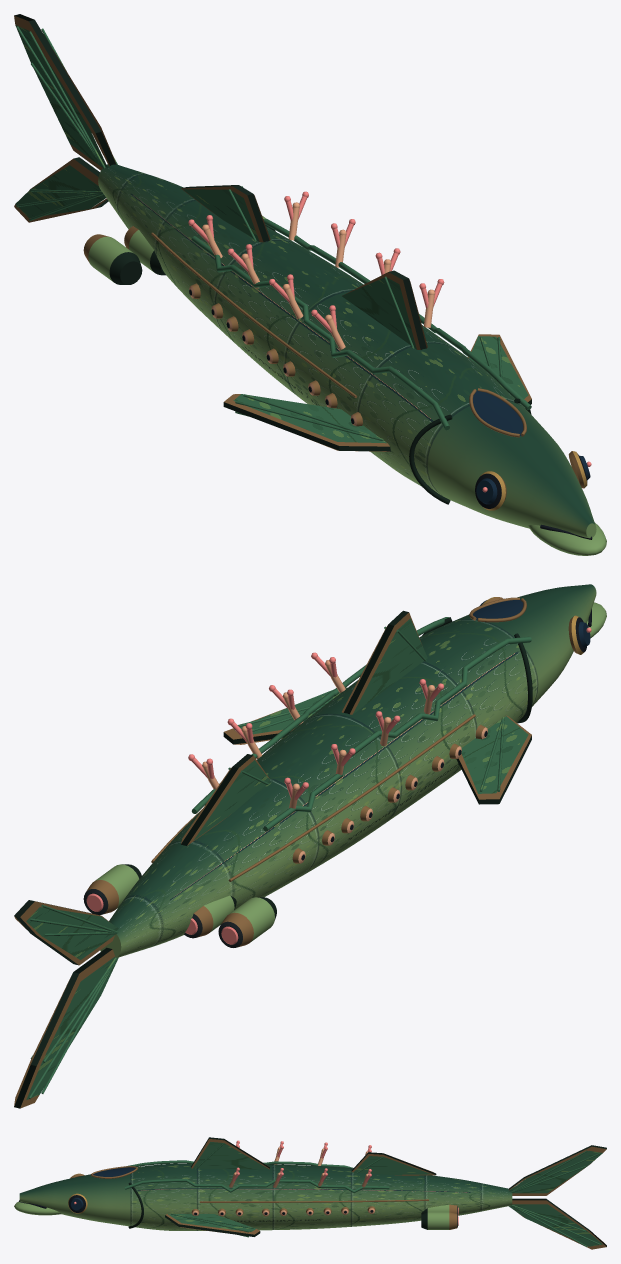
3 renders of one model, top to bottom at view 1: azimuth 30°, elevation 25°; view 2: azimuth 150°, elevation 25°; view 3: azimuth 270°, elevation 25°, orthographic. The views are drawn at different scales.
Parts seen in each view (by area): view 1: barracuda_hull; view 2: barracuda_hull; view 3: barracuda_hull.
Boxes of the visible parts, <box> form: barracuda_hull: <box>14,14,606,555</box>; barracuda_hull: <box>14,584,606,1108</box>; barracuda_hull: <box>14,1137,606,1249</box>.
Bounding box in the file's own units: 10.99 × 8.25 × 40.
Materials: 1 (1 with a texture image).
